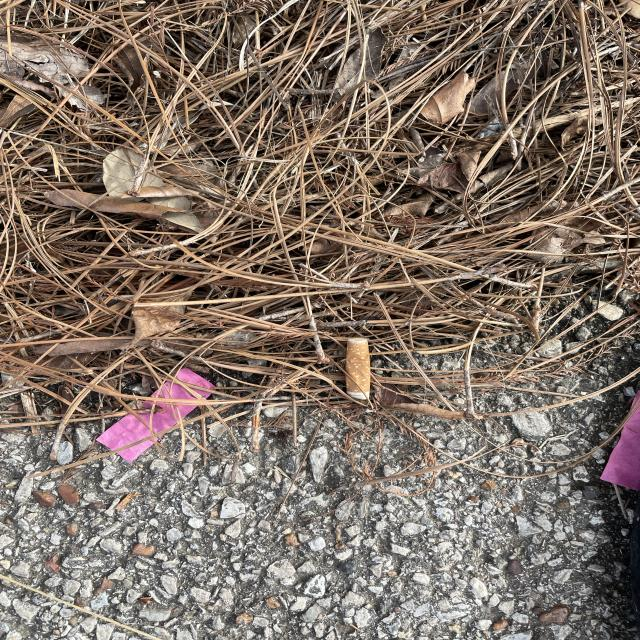cigarette: (330, 326, 390, 412)
trash-zQNu: (330, 328, 390, 409)
